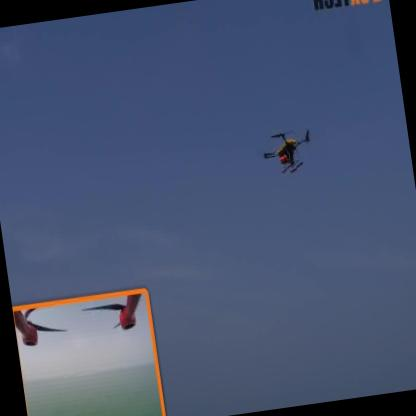drone: (254, 120, 322, 187)
